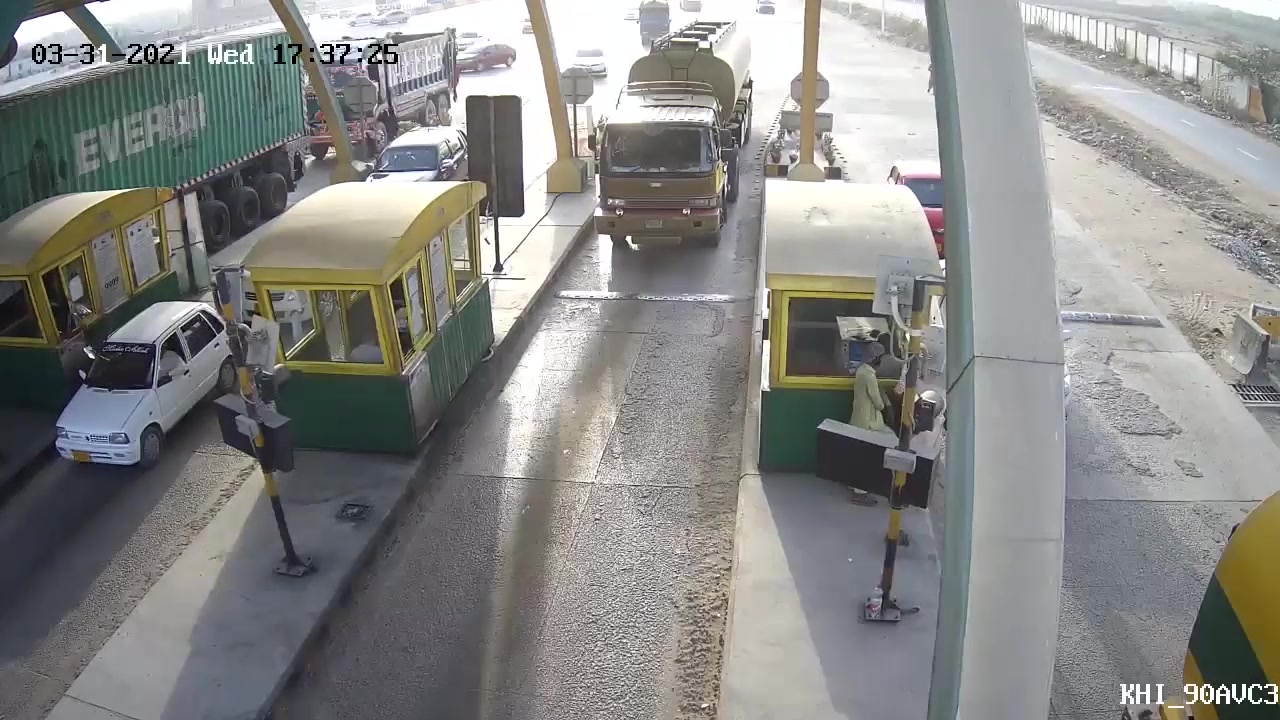F5: (574, 33, 747, 273)
